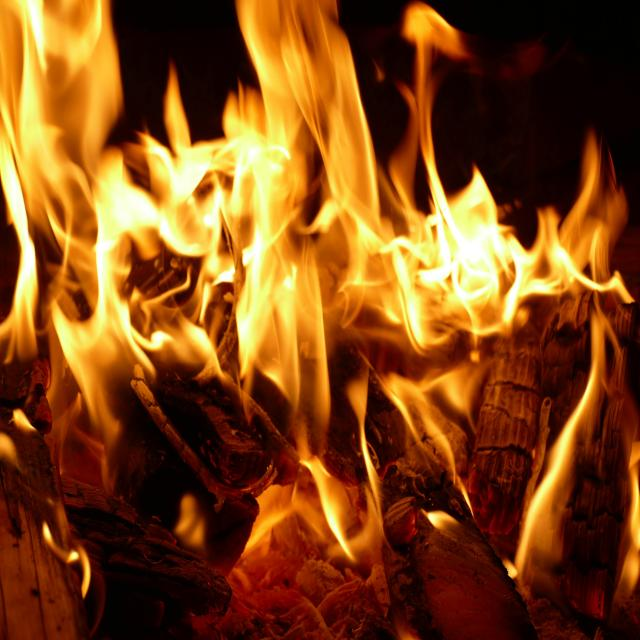fire: (0, 0, 634, 460), (505, 293, 640, 582), (250, 456, 456, 584), (38, 504, 94, 600)
